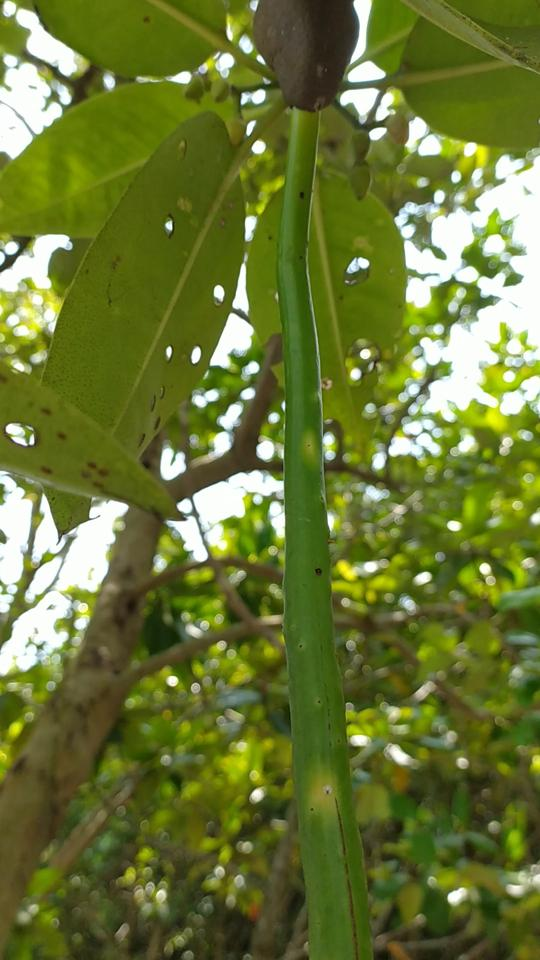mentah: (248, 3, 387, 955)
